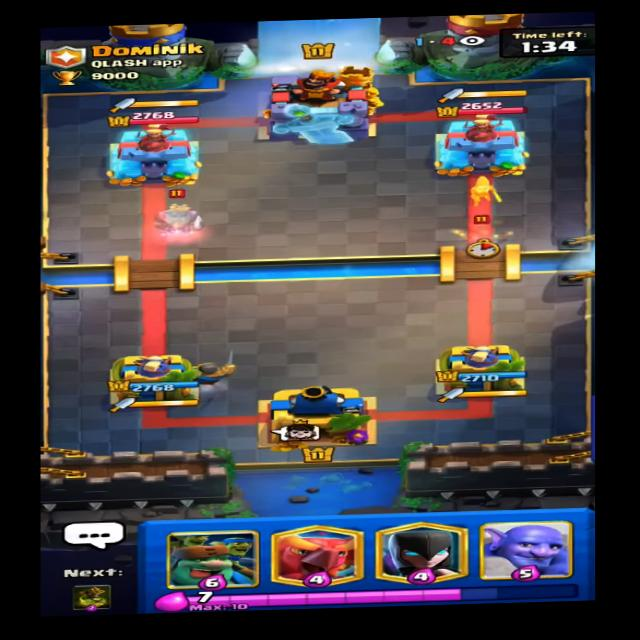bandit: (460, 173, 508, 207)
royal-ghost: (152, 194, 215, 237)
